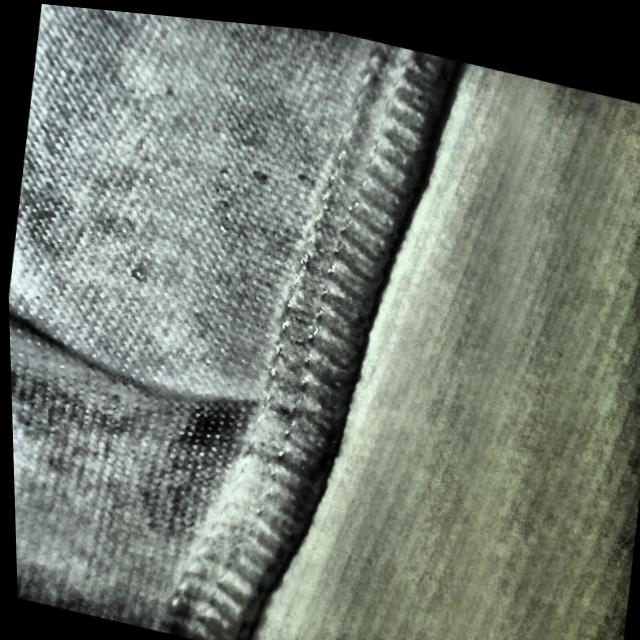seam: (35, 305, 346, 497)
